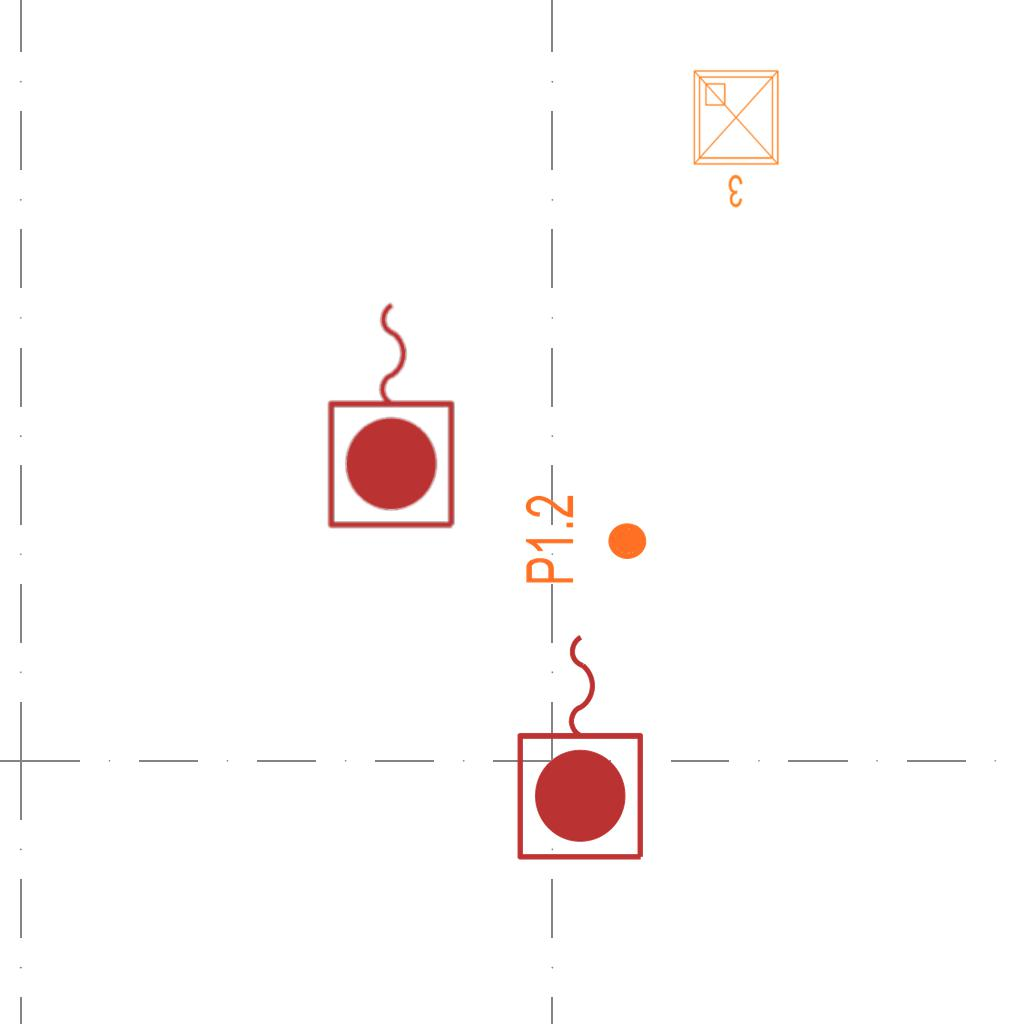Downlight_LED_Einbauleuchten_Flur: (522, 493, 650, 586)
Einbaudownlights_LED_Konferenzraeume: (686, 63, 790, 213)
Zugtaster: (510, 624, 654, 868), (321, 292, 465, 536)
